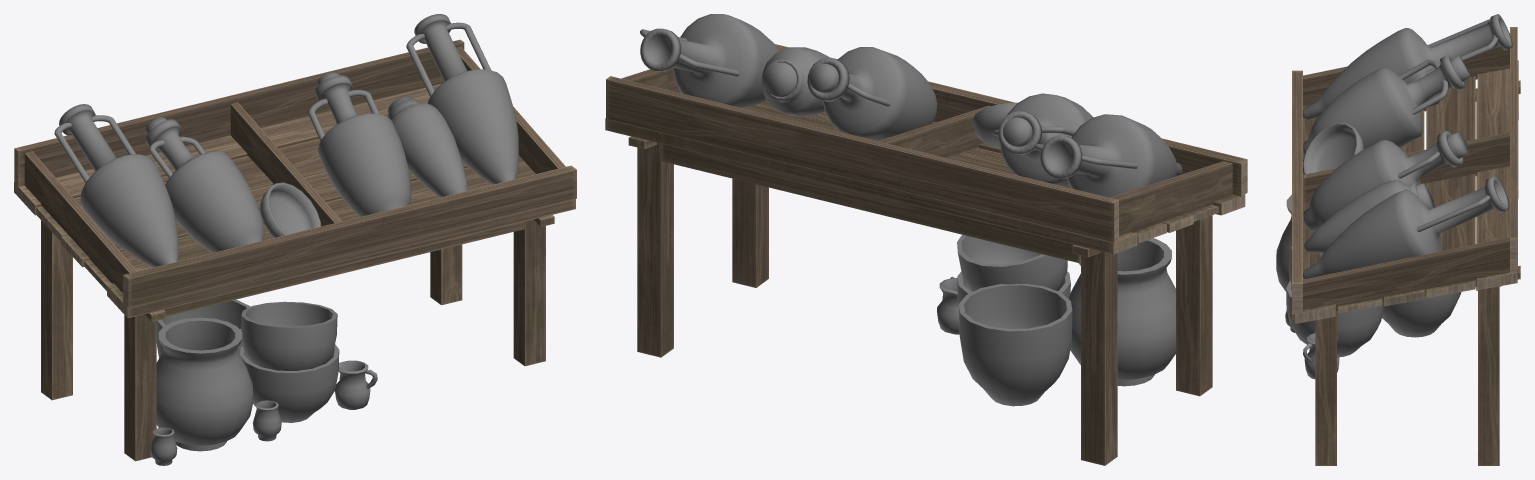
Rendered from SM_table_pottery.fbx.
3 views of the same model, side by side, from view 1: azimuth 30°, elevation 25°; view 2: azimuth 150°, elevation 25°; view 3: azimuth 270°, elevation 25° (orthographic). The views are drawn at different scales.
Parts seen in each view (by area): view 1: Object32495; view 2: Object32495; view 3: Object32495.
Part boxes in pixels (box(x1,y1,x2,y2)): Object32495: box(14, 14, 576, 465); Object32495: box(605, 14, 1247, 465); Object32495: box(1276, 14, 1520, 465).
Bounding box in the file's own units: 82.72 × 50.69 × 40.02.
